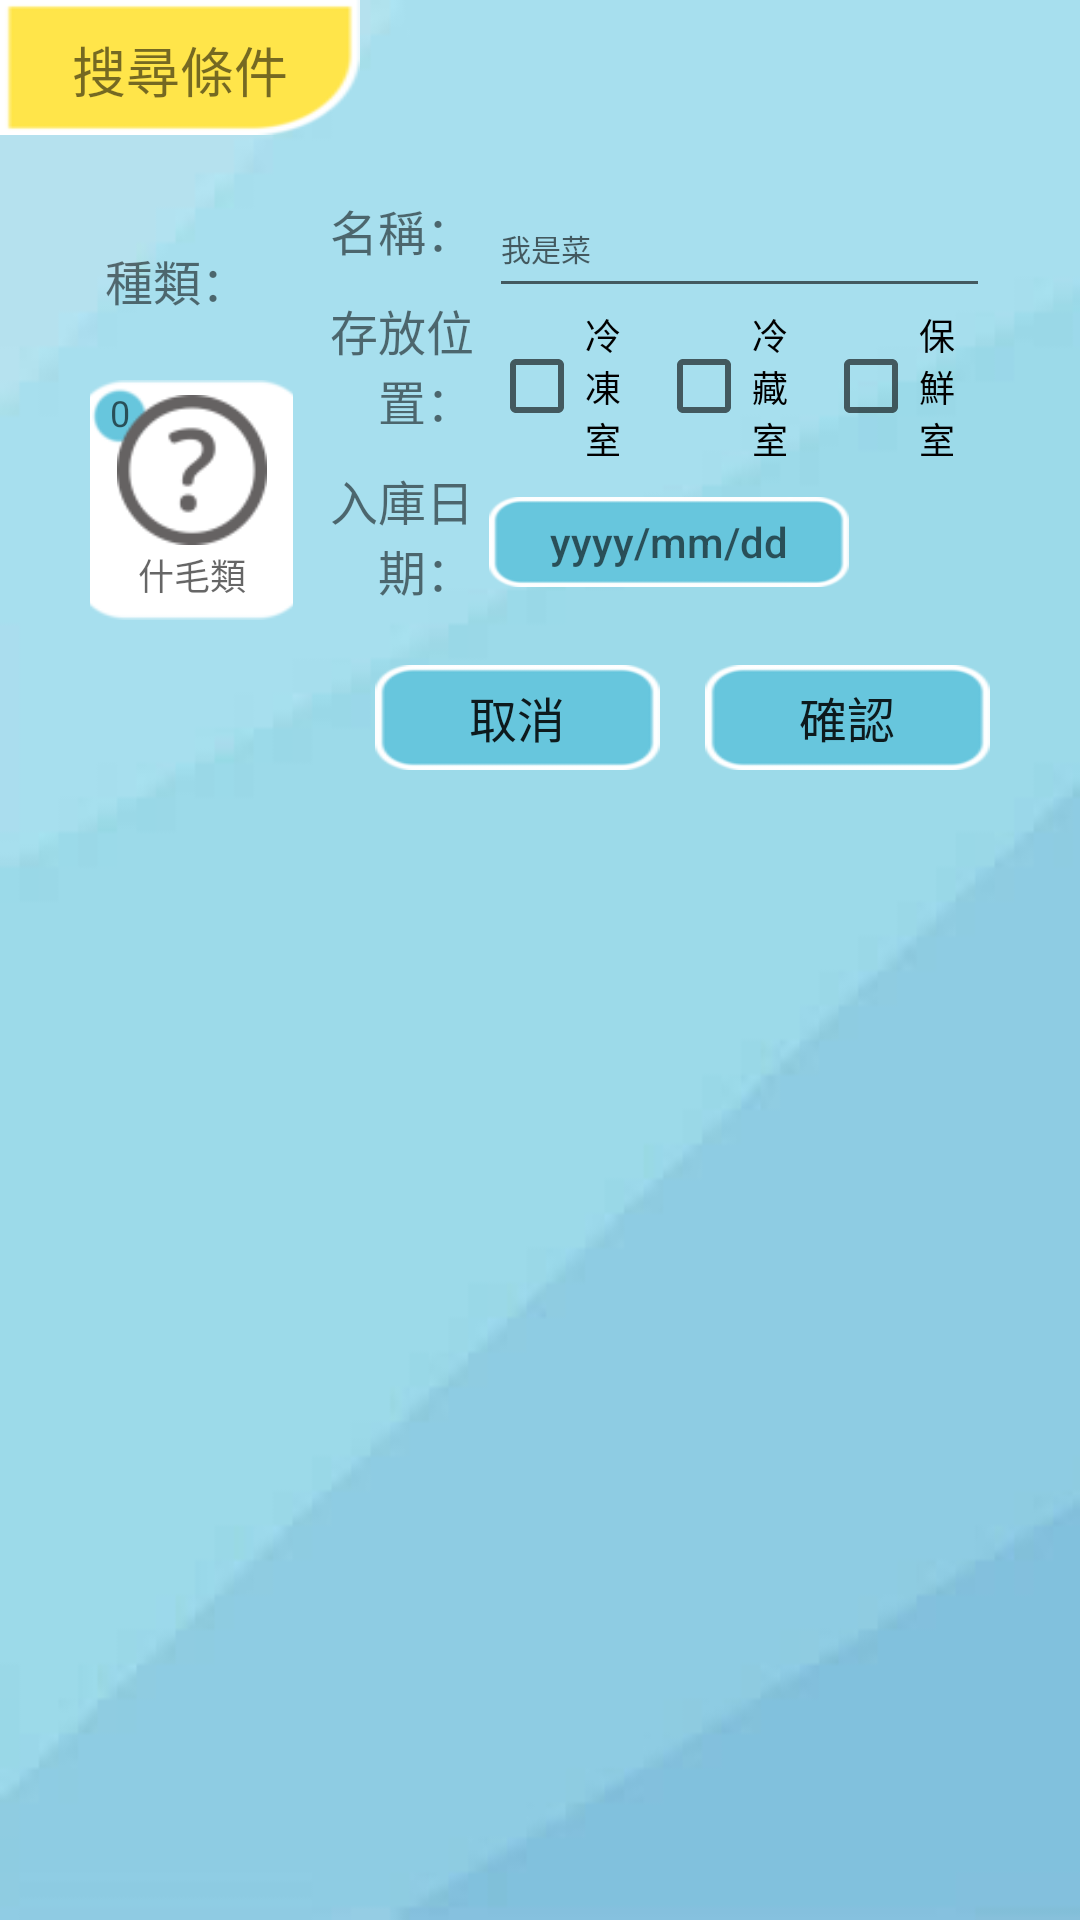

Where to tap for icons on this 1080*1920 app screen, as (x,y):
specie unknown: (191,470)
